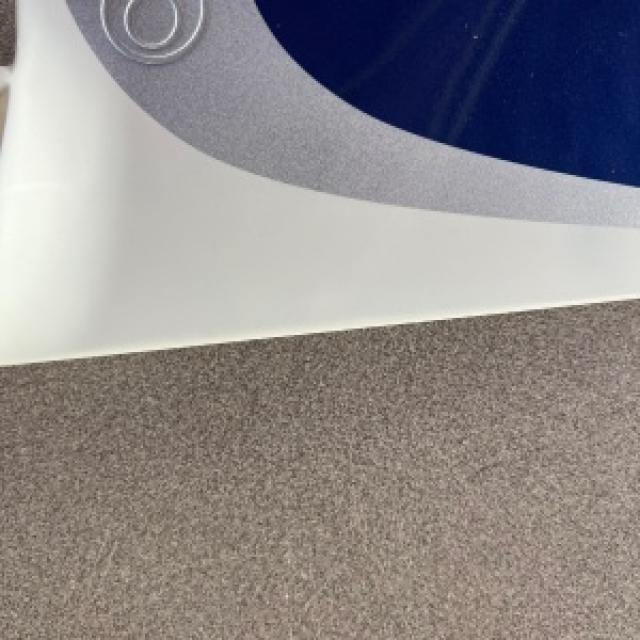healthy: (0, 0, 638, 363)
